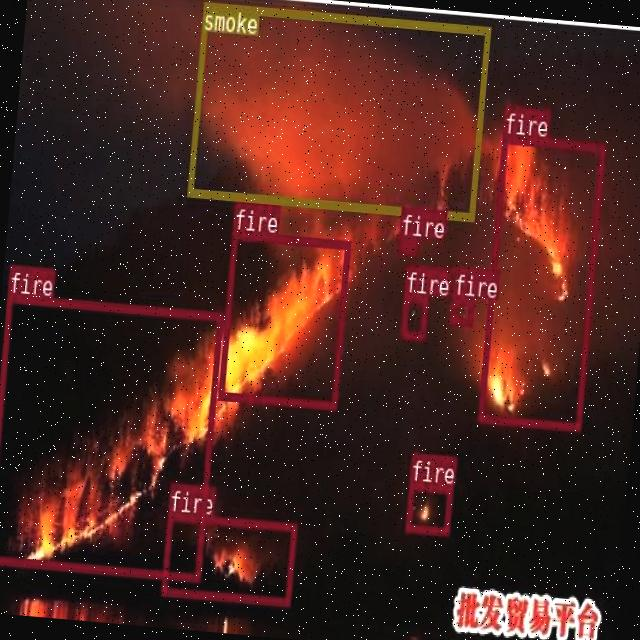fire: (0, 292, 222, 581), (476, 133, 604, 430), (217, 230, 349, 409), (160, 510, 296, 606), (404, 480, 452, 534), (400, 292, 428, 338), (450, 294, 472, 324), (397, 235, 417, 254)
smoke: (186, 2, 489, 220)
